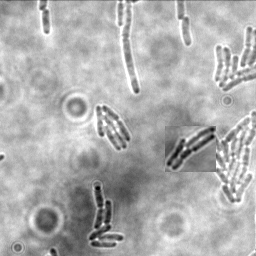Dividing: (123, 1, 142, 95), (41, 8, 52, 35)
Microcolony: (200, 109, 255, 205), (212, 25, 255, 94), (89, 184, 126, 248), (165, 126, 216, 172), (96, 103, 132, 150), (182, 16, 193, 48)
